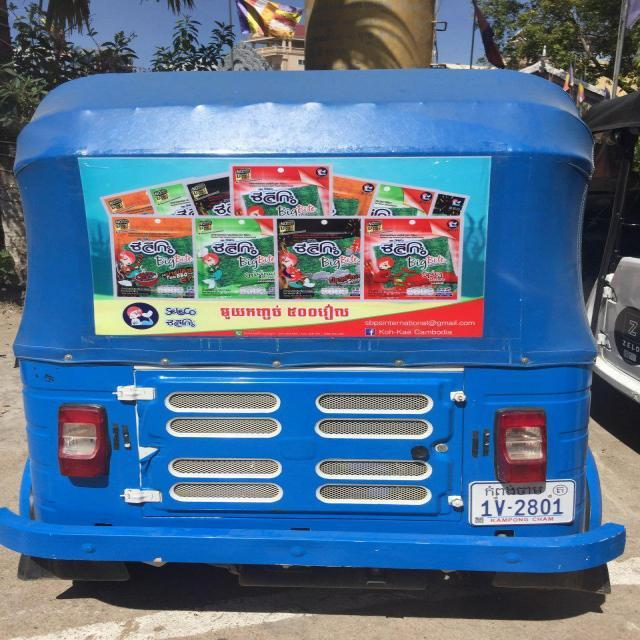Kampong_Cham: (485, 485, 542, 496)
